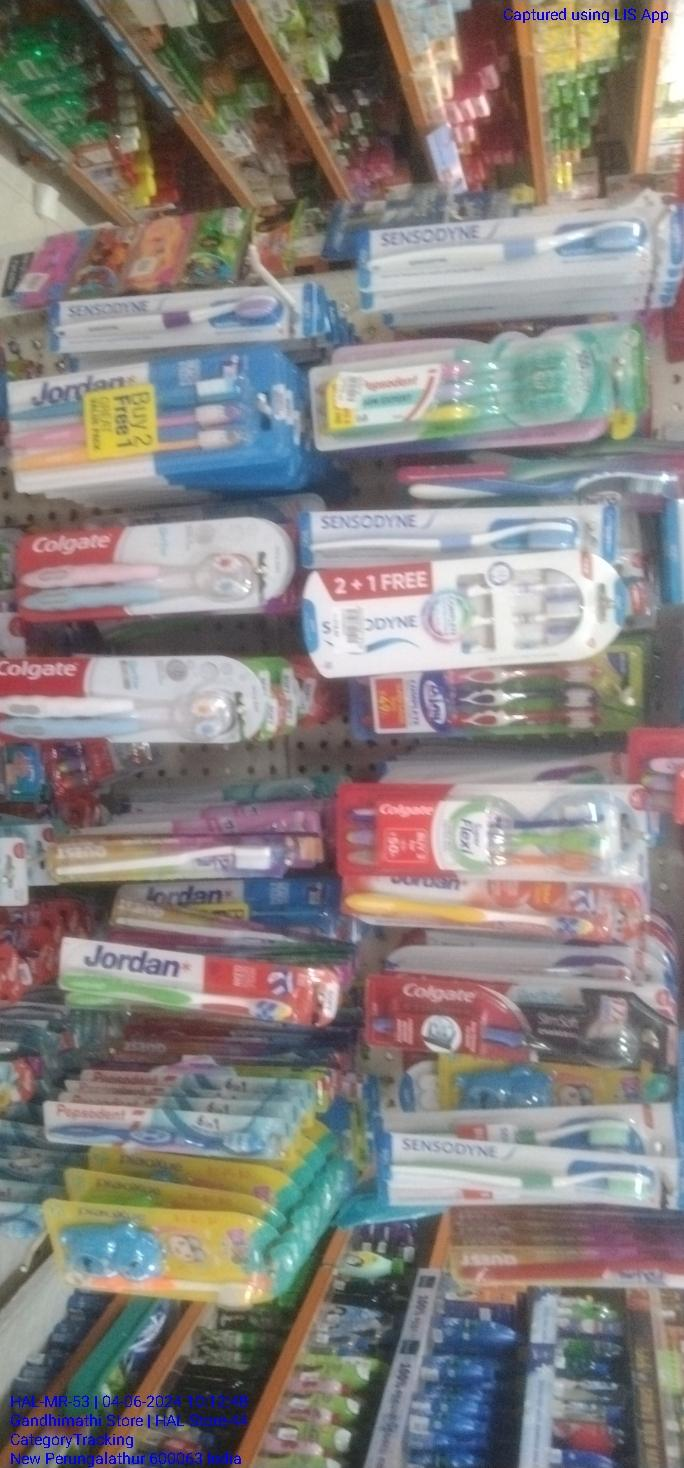11: (150, 80, 210, 799)
4: (259, 126, 311, 820)
soap: (458, 14, 490, 691)
